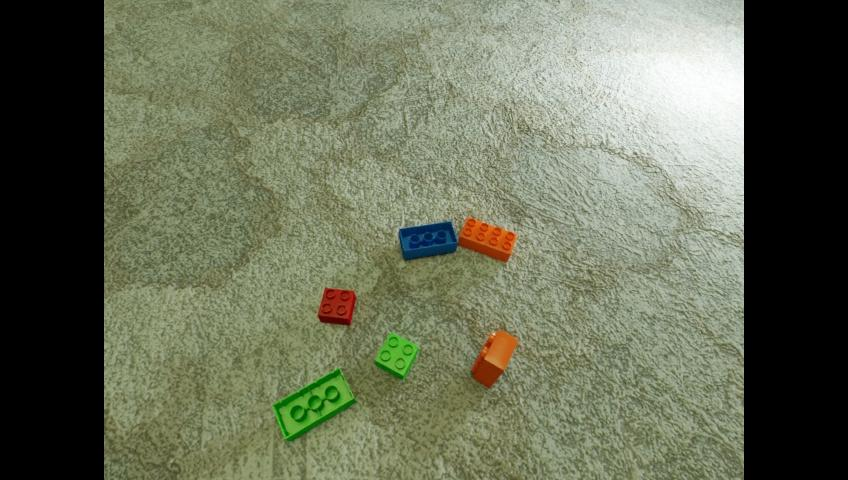2x2_green: (374, 331, 417, 380)
2x2_red: (317, 287, 355, 325)
4x2_blue: (399, 220, 457, 259)
4x2_green: (272, 367, 355, 441)
4x2_orange: (472, 329, 518, 387), (458, 216, 516, 262)
